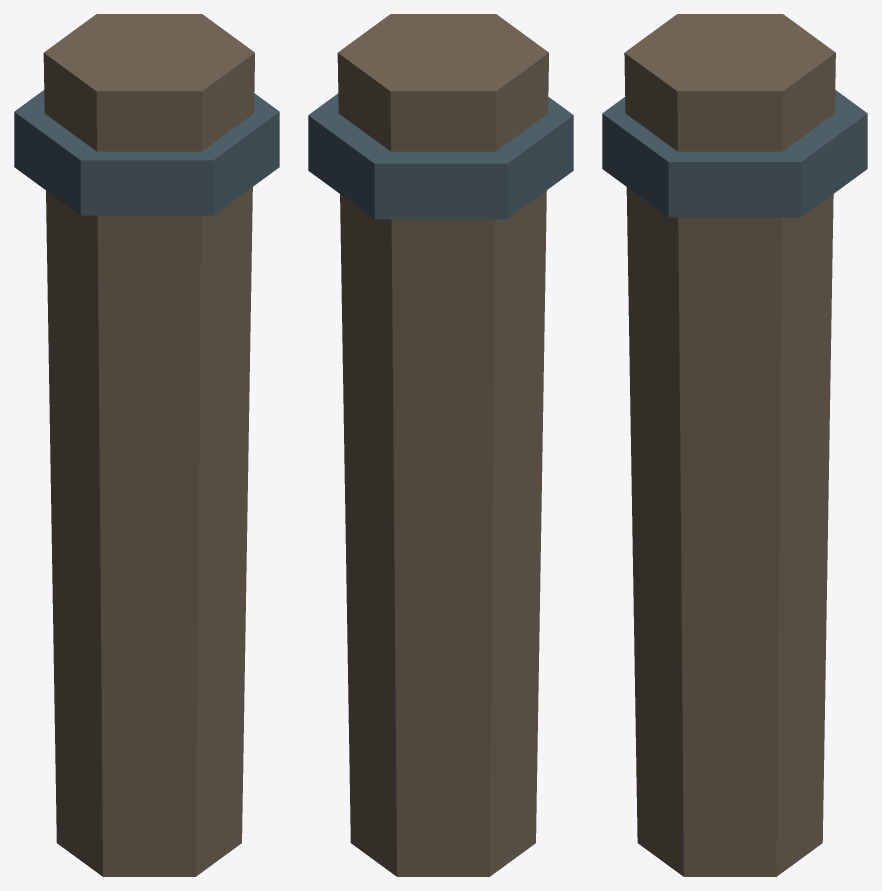
Rendered from Fence_Post.fbx.
The picture shows the model from 3 angles, left to right: view 1: azimuth 30°, elevation 25°; view 2: azimuth 150°, elevation 25°; view 3: azimuth 270°, elevation 25°; orthographic projection.
Parts seen in each view (by area): view 1: Fence_Post; view 2: Fence_Post; view 3: Fence_Post.
Boxes of the visible parts, x1,y1,x2,y2 form: Fence_Post: (14,14,279,876); Fence_Post: (308,14,573,876); Fence_Post: (602,14,867,876).
Bounding box in the file's own units: 38.91 × 148 × 44.93.
